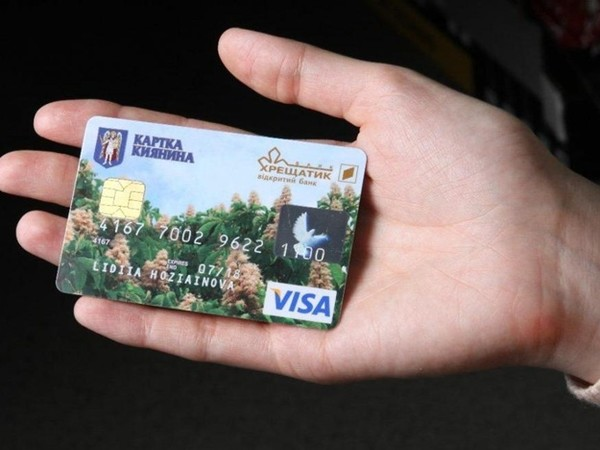tarjeta: (52, 113, 370, 331)
